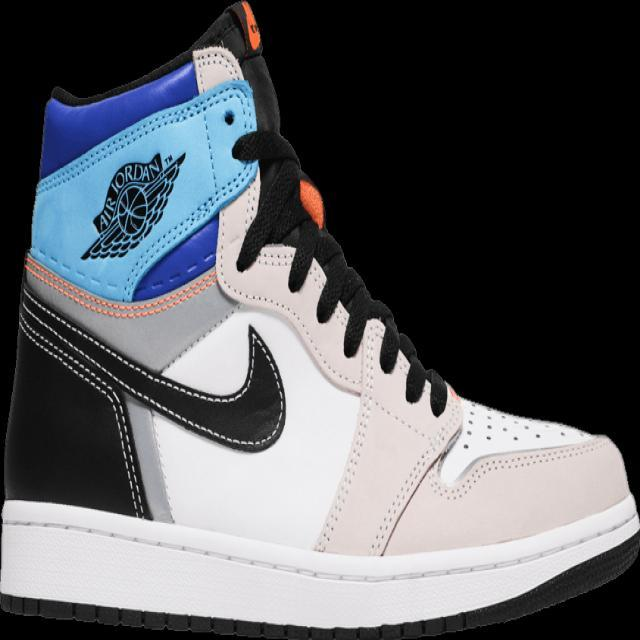J1_InsoleChar: (1, 1, 638, 637)
J1_ShoeLogo: (28, 75, 261, 308), (79, 150, 186, 261)
J1_StitchPattern: (11, 263, 612, 561), (190, 44, 460, 556), (1, 495, 638, 588), (233, 170, 450, 415), (15, 281, 287, 452), (15, 283, 174, 521), (367, 396, 597, 557), (312, 316, 386, 554), (21, 251, 219, 320), (428, 433, 608, 501), (369, 439, 438, 555), (190, 44, 245, 93)
